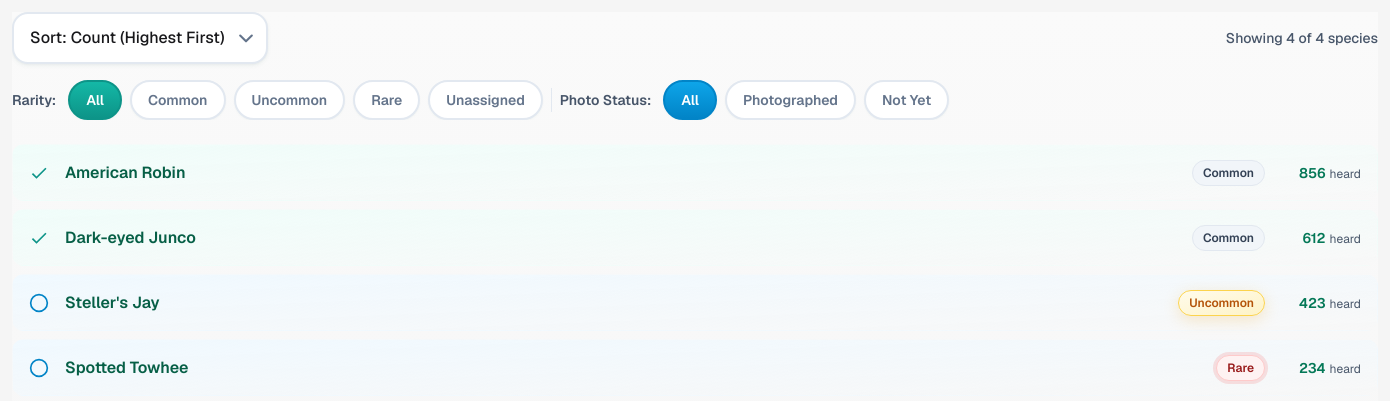
Test: SpeciesActivityList › updates result count when filtering
The image size is (1390, 401).
Expected: the text "Showing 4 of 4 species" is shown, [1226,28,1378,48]
// Filter by common
Click the button with aria-label "Filter by Common rarity" at (178, 100), box [130,80,226,120]
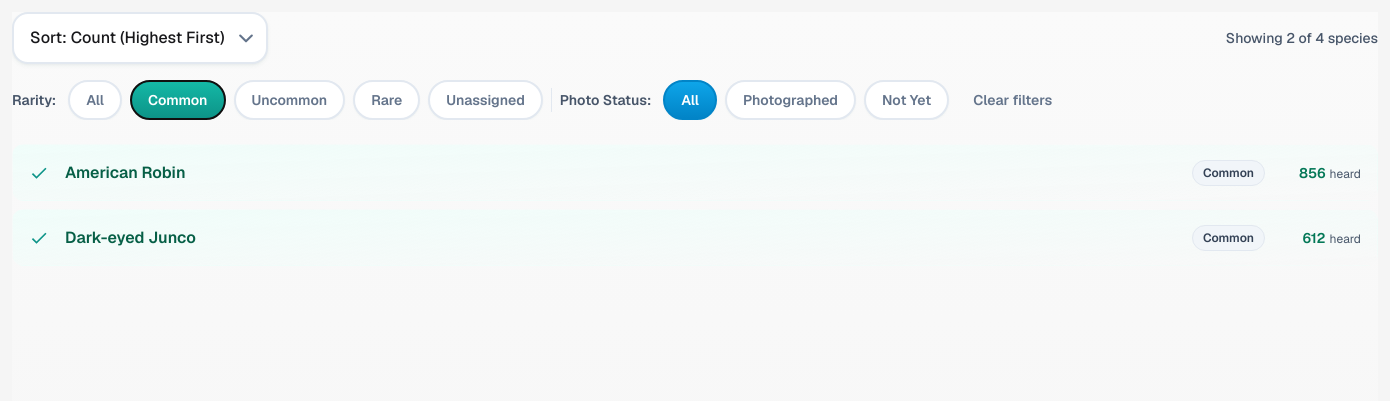
Expected: the text "Showing 2 of 4 species" is shown, [1226,28,1378,48]
